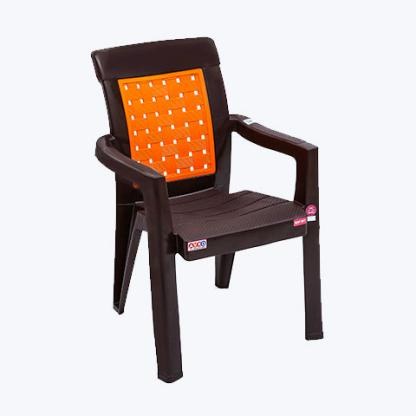chair: (86, 33, 333, 392)
